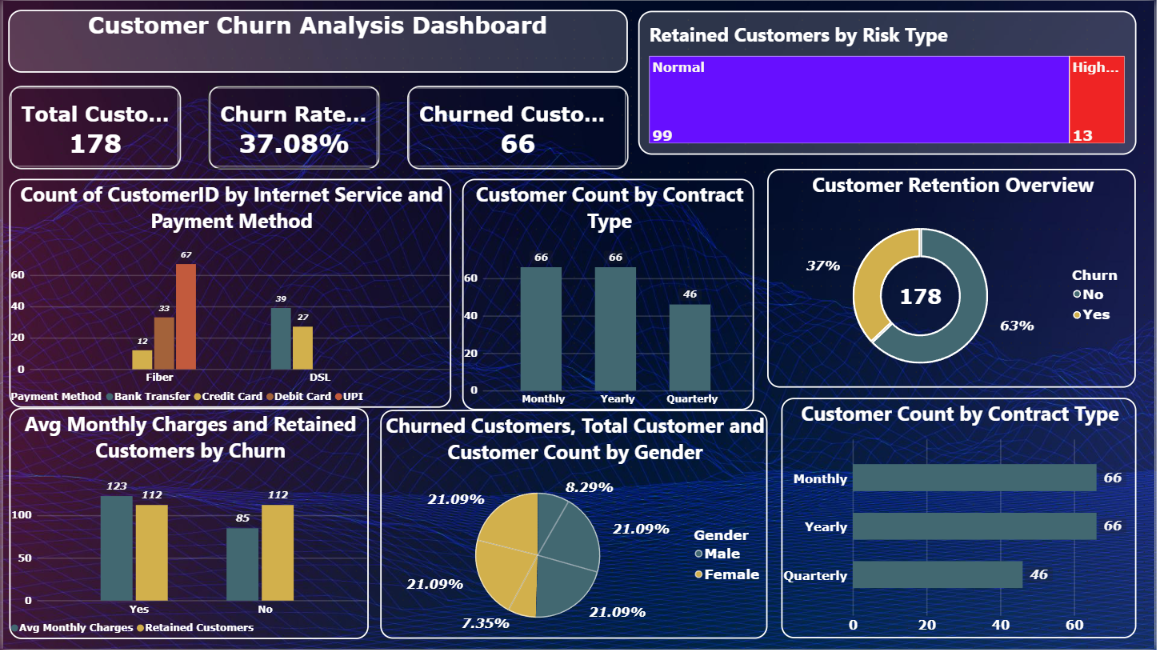

The page's visual inventory and layout, read from the dashboard file:
{"tool":"powerbi","page":{"name":"Page 1","canvas":[1920,1080],"ordinal":0},"visuals":[{"type":"textbox","box":[8.9,15.6,1032.9,105.1],"z":0},{"type":"treemap","fields":{"Group":["Sheet1.Risk Type"],"Values":["Sheet1.Retained Customers"]},"box":[1057.9,16.1,830.2,240.3],"z":1000},{"type":"cardVisual","fields":{"Data":["Sheet1.Total Customer"]},"box":[9.5,141.3,286.3,139.4],"z":2000},{"type":"cardVisual","fields":{"Data":["Sheet1.Churn Rate %"]},"box":[341.7,141.3,286.3,139.4],"z":3000},{"type":"cardVisual","fields":{"Data":["Sheet1.Churned Customers"]},"box":[673.9,141.3,368.4,139.4],"z":4000},{"type":"donutChart","title":"Customer Retention Overview","fields":{"Category":["Sheet1.Churn"],"Y":["Sheet1.Total Customer"]},"box":[1273.3,280.6,614.7,364.6],"z":5000},{"type":"barChart","fields":{"Category":["Sheet1.Contract Type"],"Y":["Sheet1.Customer Count"]},"box":[1296.2,662.4,591.8,400.9],"z":6000},{"type":"clusteredColumnChart","fields":{"Category":["Sheet1.Internet Service"],"Series":["Sheet1.Payment Method"],"Y":["CountNonNull(Sheet1.CustomerID)"]},"box":[9.5,295.9,736.8,381.8],"z":7000},{"type":"columnChart","fields":{"Category":["Sheet1.Contract Type"],"Y":["Sheet1.Customer Count"]},"box":[765.5,295.9,486.8,385.6],"z":8000},{"type":"clusteredColumnChart","fields":{"Category":["Sheet1.Churn"],"Y":["Sheet1.Avg Monthly Charges","Sheet1.Retained Customers"]},"box":[9.5,677.7,599.4,385.6],"z":9000},{"type":"pieChart","fields":{"Category":["Sheet1.Gender"],"Y":["Sheet1.Churned Customers","Sheet1.Total Customer","Sheet1.Customer Count"]},"box":[628,681.5,645.2,381.8],"z":10000}]}

Visuals, with their boxes in screenshot pixels (x1, y1, x2, y2), scaled from the page's 1920x1080 canvas onto the 1157x650 screenshot:
textbox: box(5, 9, 628, 73)
treemap - Sheet1.Risk Type x Sheet1.Retained Customers: box(637, 10, 1138, 154)
cardVisual - Sheet1.Total Customer: box(6, 85, 178, 169)
cardVisual - Sheet1.Churn Rate %: box(206, 85, 378, 169)
cardVisual - Sheet1.Churned Customers: box(406, 85, 628, 169)
"Customer Retention Overview" donutChart: box(767, 169, 1138, 388)
barChart - Sheet1.Contract Type x Sheet1.Customer Count: box(781, 399, 1138, 640)
clusteredColumnChart - Sheet1.Internet Service x Sheet1.Payment Method: box(6, 178, 450, 408)
columnChart - Sheet1.Contract Type x Sheet1.Customer Count: box(461, 178, 755, 410)
clusteredColumnChart - Sheet1.Churn x Sheet1.Avg Monthly Charges: box(6, 408, 367, 640)
pieChart - Sheet1.Gender x Sheet1.Churned Customers: box(378, 410, 767, 640)
